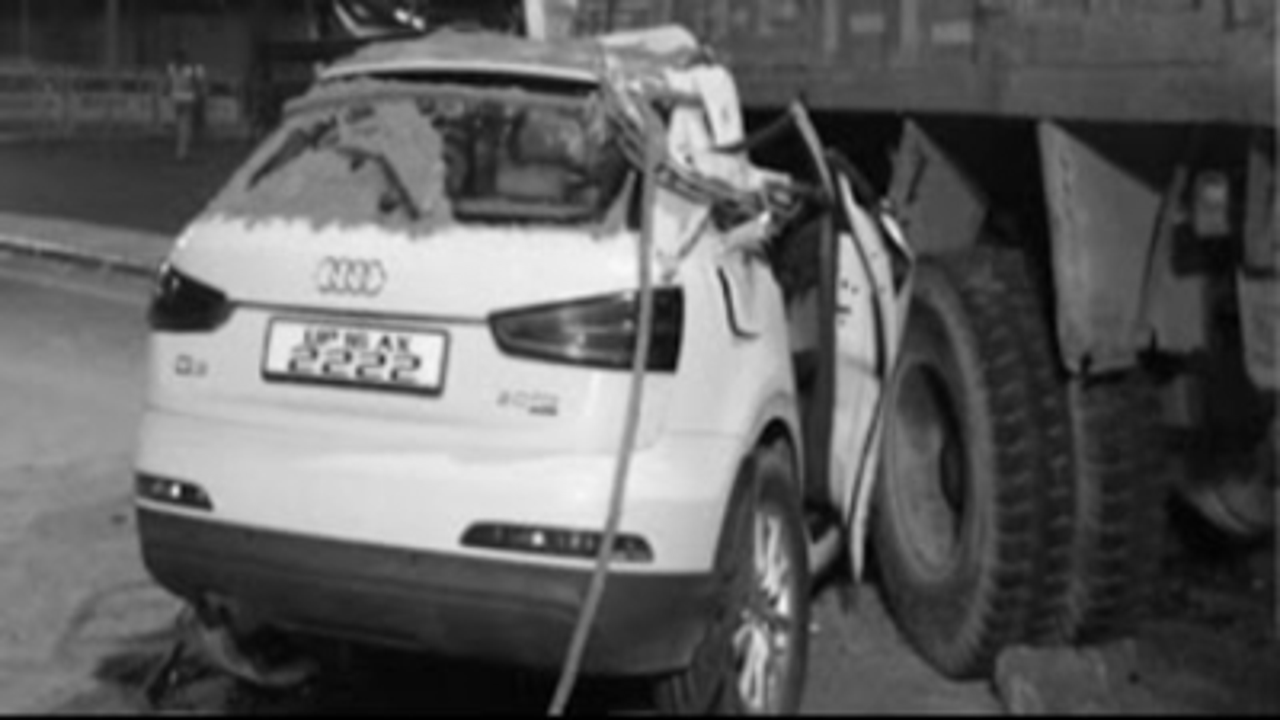license: (260, 312, 454, 408)
